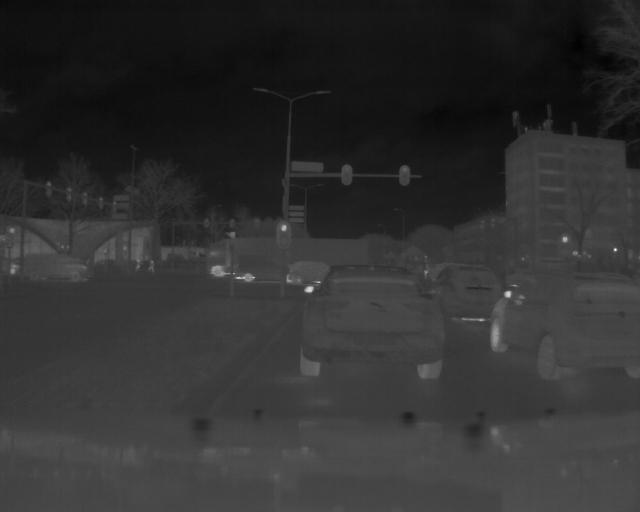car: (489, 277, 640, 387), (305, 269, 440, 389), (20, 247, 93, 288), (236, 252, 294, 285), (206, 235, 234, 279)
person: (147, 259, 157, 274), (134, 259, 143, 275)
